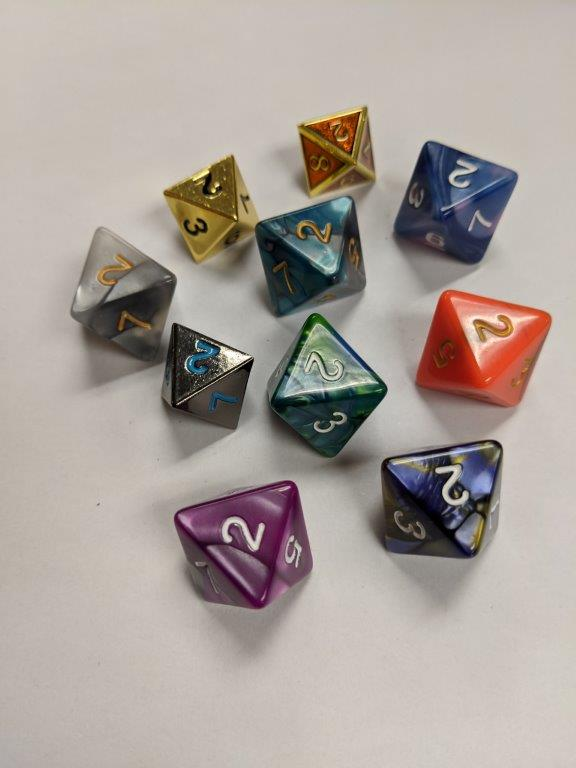d8-2: (174, 477, 315, 608), (265, 308, 389, 450), (415, 287, 554, 408), (392, 138, 520, 264), (69, 224, 179, 359), (383, 440, 502, 558), (255, 195, 371, 314), (163, 154, 258, 263), (161, 322, 253, 433), (296, 102, 383, 202)
